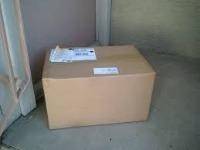undamaged: (37, 41, 159, 134)
